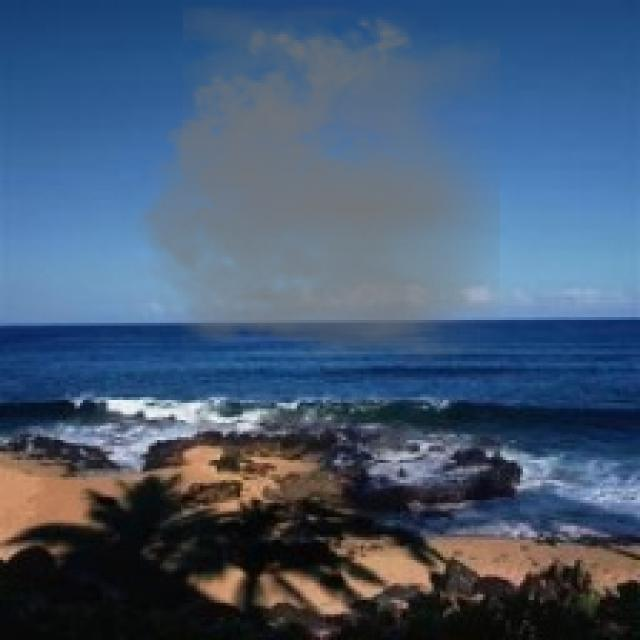Smoke: (120, 6, 500, 363)
